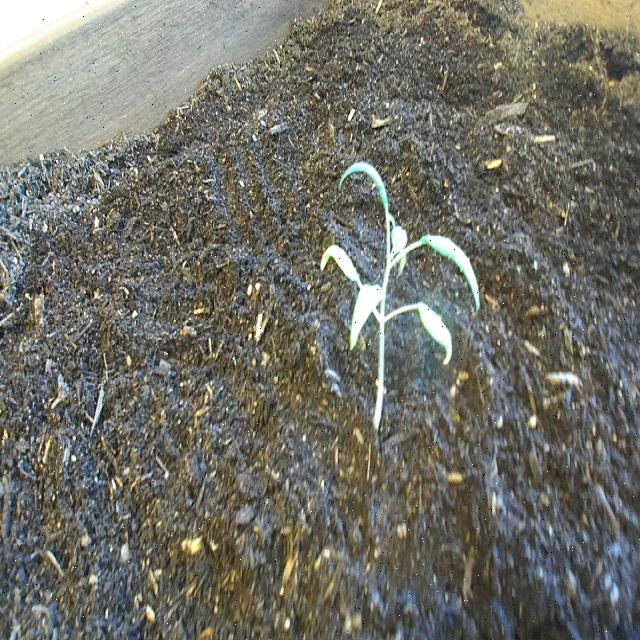Healthy: (317, 150, 484, 452)
